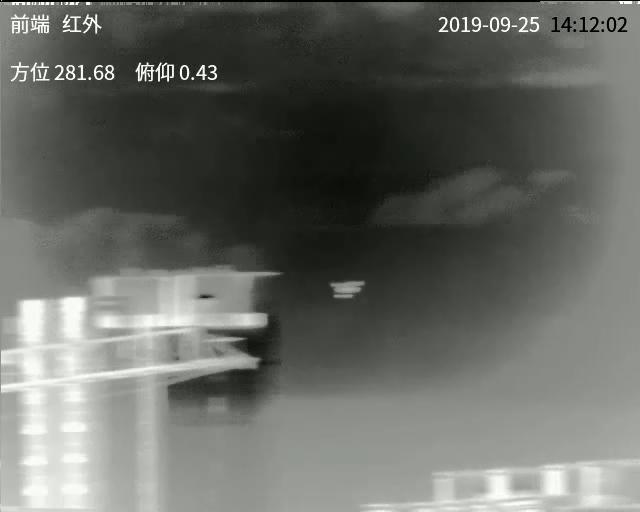uav: (326, 275, 367, 304)
